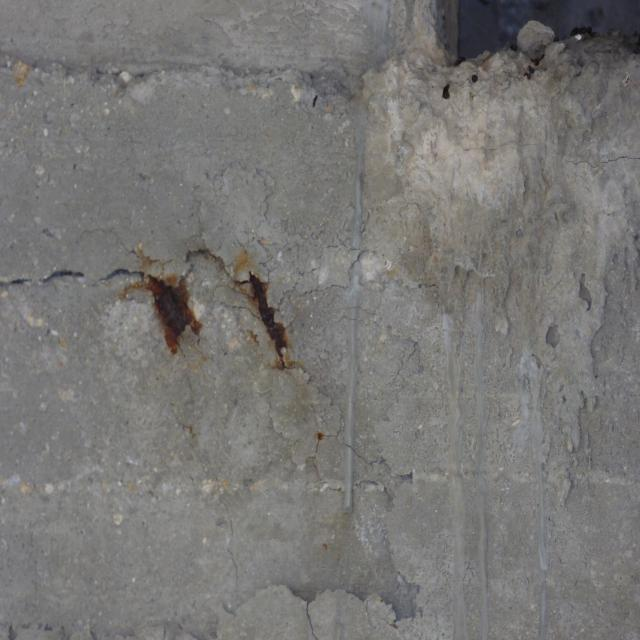corrosion: (122, 237, 320, 413)
